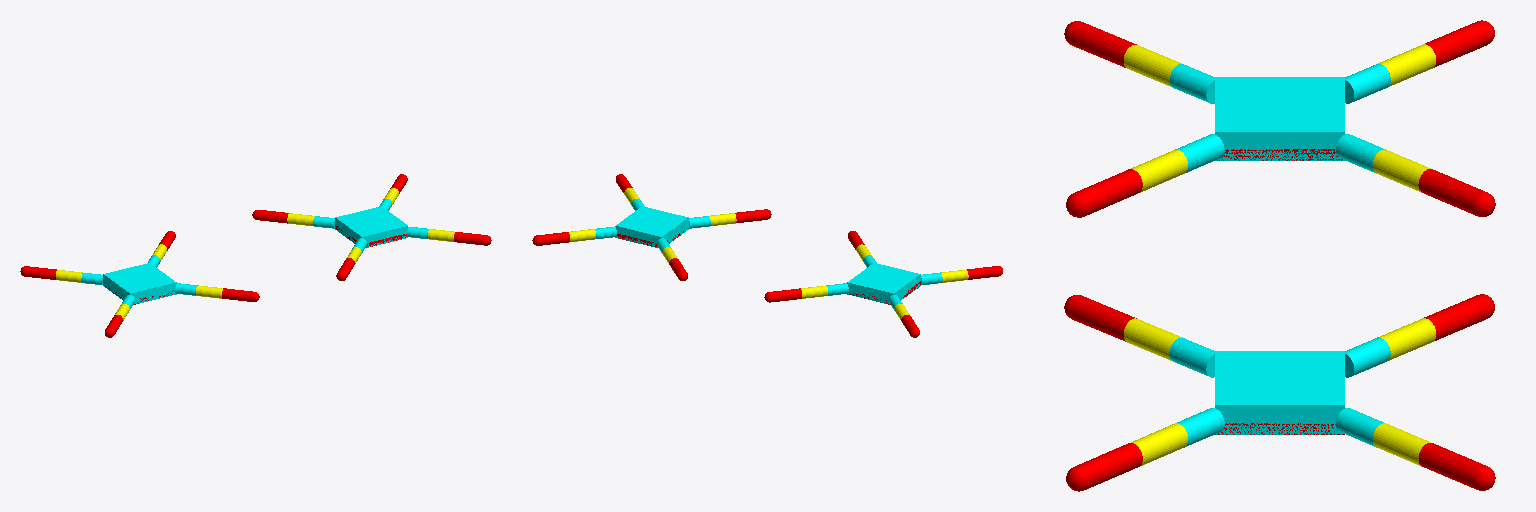
The robot description file, URDF, robot "spider":
<?xml version="1.0" ?>
<!-- =================================================================================== -->
<!-- |    This document was autogenerated by xacro from spider3.xacro                  | -->
<!-- |    EDITING THIS FILE BY HAND IS NOT RECOMMENDED                                 | -->
<!-- =================================================================================== -->
<robot name="spider" xmlns:xacro="http://www.ros.org/wiki/xacro">
  <link name="env+a+'_1'">
    <visual>
      <geometry>
        <cylinder length="0.4" radius="0.1"/>
      </geometry>
      <origin rpy="0 1.57285 0" xyz="0.2 0 0"/>
      <material name="cyan">
        <color rgba="0 1 1 1"/>
      </material>
    </visual>
  </link>
  <link name="env+a+'_2'">
    <visual>
      <geometry>
        <cylinder length="0.5" radius="0.1"/>
      </geometry>
      <origin rpy="0 1.57285 0" xyz="0.25 0 0"/>
      <material name="yellow">
        <color rgba="1 1 0 1"/>
      </material>
    </visual>
    <collision>
      <geometry>
        <cylinder length="0.5" radius="0.1"/>
      </geometry>
      <origin rpy="0 1.57285 0" xyz="0.25 0 0"/>
      <material name="yellow">
        <color rgba="1 1 0 1"/>
      </material>
    </collision>
  </link>
  <link name="env+a+'_3'">
    <visual>
      <geometry>
        <cylinder length="0.6" radius="0.1"/>
      </geometry>
      <origin rpy="0 1.57285 0" xyz="0.3 0 0"/>
      <material name="red">
        <color rgba="1 0 0 1"/>
      </material>
    </visual>
    <collision>
      <geometry>
        <cylinder length="0.6" radius="0.1"/>
      </geometry>
      <origin rpy="0 1.57285 0" xyz="0.3 0 0"/>
      <material name="red">
        <color rgba="1 0 0 1"/>
      </material>
    </collision>
  </link>
  <link name="env+a+'_4'">
    <visual>
      <geometry>
        <sphere radius="0.1"/>
      </geometry>
      <origin rpy="0 1.57285 0" xyz="0.3 0 0"/>
      <material name="red">
        <color rgba="1 0 0 1"/>
      </material>
    </visual>
    <collision>
      <geometry>
        <sphere radius="0.1"/>
      </geometry>
      <origin rpy="0 1.57285 0" xyz="0.3 0 0"/>
      <material name="red">
        <color rgba="1 0 0 1"/>
      </material>
    </collision>
  </link>
  <joint name="env+a+'_1_2'" type="revolute">
    <parent link="env+a+'_1'"/>
    <child link="env+a+'_2'"/>
    <origin rpy="0 0 0" xyz="0.4 0 0"/>
    <axis xyz="0 1 0"/>
    <limit effort="300" lower="-1.57" upper="1.57" velocity="0.1"/>
  </joint>
  <joint name="env+a+'_2_3'" type="revolute">
    <parent link="env+a+'_2'"/>
    <child link="env+a+'_3'"/>
    <origin rpy="0 0 0" xyz="0.5 0 0"/>
    <axis xyz="0 1 0"/>
    <limit effort="300" lower="-1.57" upper="1.57" velocity="0.1"/>
  </joint>
  <joint name="env+a+'_3_4'" type="fixed">
    <parent link="env+a+'_3'"/>
    <child link="env+a+'_4'"/>
    <origin xyz="0.3 0 0"/>
  </joint>
  <link name="env+b+'_1'">
    <visual>
      <geometry>
        <cylinder length="0.4" radius="0.1"/>
      </geometry>
      <origin rpy="0 1.57285 0" xyz="0.2 0 0"/>
      <material name="cyan">
        <color rgba="0 1 1 1"/>
      </material>
    </visual>
  </link>
  <link name="env+b+'_2'">
    <visual>
      <geometry>
        <cylinder length="0.5" radius="0.1"/>
      </geometry>
      <origin rpy="0 1.57285 0" xyz="0.25 0 0"/>
      <material name="yellow">
        <color rgba="1 1 0 1"/>
      </material>
    </visual>
    <collision>
      <geometry>
        <cylinder length="0.5" radius="0.1"/>
      </geometry>
      <origin rpy="0 1.57285 0" xyz="0.25 0 0"/>
      <material name="yellow">
        <color rgba="1 1 0 1"/>
      </material>
    </collision>
  </link>
  <link name="env+b+'_3'">
    <visual>
      <geometry>
        <cylinder length="0.6" radius="0.1"/>
      </geometry>
      <origin rpy="0 1.57285 0" xyz="0.3 0 0"/>
      <material name="red">
        <color rgba="1 0 0 1"/>
      </material>
    </visual>
    <collision>
      <geometry>
        <cylinder length="0.6" radius="0.1"/>
      </geometry>
      <origin rpy="0 1.57285 0" xyz="0.3 0 0"/>
      <material name="red">
        <color rgba="1 0 0 1"/>
      </material>
    </collision>
  </link>
  <link name="env+b+'_4'">
    <visual>
      <geometry>
        <sphere radius="0.1"/>
      </geometry>
      <origin rpy="0 1.57285 0" xyz="0.3 0 0"/>
      <material name="red">
        <color rgba="1 0 0 1"/>
      </material>
    </visual>
    <collision>
      <geometry>
        <sphere radius="0.1"/>
      </geometry>
      <origin rpy="0 1.57285 0" xyz="0.3 0 0"/>
      <material name="red">
        <color rgba="1 0 0 1"/>
      </material>
    </collision>
  </link>
  <joint name="env+b+'_1_2'" type="revolute">
    <parent link="env+b+'_1'"/>
    <child link="env+b+'_2'"/>
    <origin rpy="0 0 0" xyz="0.4 0 0"/>
    <axis xyz="0 1 0"/>
    <limit effort="300" lower="-1.57" upper="1.57" velocity="0.1"/>
  </joint>
  <joint name="env+b+'_2_3'" type="revolute">
    <parent link="env+b+'_2'"/>
    <child link="env+b+'_3'"/>
    <origin rpy="0 0 0" xyz="0.5 0 0"/>
    <axis xyz="0 1 0"/>
    <limit effort="300" lower="-1.57" upper="1.57" velocity="0.1"/>
  </joint>
  <joint name="env+b+'_3_4'" type="fixed">
    <parent link="env+b+'_3'"/>
    <child link="env+b+'_4'"/>
    <origin xyz="0.3 0 0"/>
  </joint>
  <link name="env+c+'_1'">
    <visual>
      <geometry>
        <cylinder length="0.4" radius="0.1"/>
      </geometry>
      <origin rpy="0 1.57285 0" xyz="0.2 0 0"/>
      <material name="cyan">
        <color rgba="0 1 1 1"/>
      </material>
    </visual>
  </link>
  <link name="env+c+'_2'">
    <visual>
      <geometry>
        <cylinder length="0.5" radius="0.1"/>
      </geometry>
      <origin rpy="0 1.57285 0" xyz="0.25 0 0"/>
      <material name="yellow">
        <color rgba="1 1 0 1"/>
      </material>
    </visual>
    <collision>
      <geometry>
        <cylinder length="0.5" radius="0.1"/>
      </geometry>
      <origin rpy="0 1.57285 0" xyz="0.25 0 0"/>
      <material name="yellow">
        <color rgba="1 1 0 1"/>
      </material>
    </collision>
  </link>
  <link name="env+c+'_3'">
    <visual>
      <geometry>
        <cylinder length="0.6" radius="0.1"/>
      </geometry>
      <origin rpy="0 1.57285 0" xyz="0.3 0 0"/>
      <material name="red">
        <color rgba="1 0 0 1"/>
      </material>
    </visual>
    <collision>
      <geometry>
        <cylinder length="0.6" radius="0.1"/>
      </geometry>
      <origin rpy="0 1.57285 0" xyz="0.3 0 0"/>
      <material name="red">
        <color rgba="1 0 0 1"/>
      </material>
    </collision>
  </link>
  <link name="env+c+'_4'">
    <visual>
      <geometry>
        <sphere radius="0.1"/>
      </geometry>
      <origin rpy="0 1.57285 0" xyz="0.3 0 0"/>
      <material name="red">
        <color rgba="1 0 0 1"/>
      </material>
    </visual>
    <collision>
      <geometry>
        <sphere radius="0.1"/>
      </geometry>
      <origin rpy="0 1.57285 0" xyz="0.3 0 0"/>
      <material name="red">
        <color rgba="1 0 0 1"/>
      </material>
    </collision>
  </link>
  <joint name="env+c+'_1_2'" type="revolute">
    <parent link="env+c+'_1'"/>
    <child link="env+c+'_2'"/>
    <origin rpy="0 0 0" xyz="0.4 0 0"/>
    <axis xyz="0 1 0"/>
    <limit effort="300" lower="-1.57" upper="1.57" velocity="0.1"/>
  </joint>
  <joint name="env+c+'_2_3'" type="revolute">
    <parent link="env+c+'_2'"/>
    <child link="env+c+'_3'"/>
    <origin rpy="0 0 0" xyz="0.5 0 0"/>
    <axis xyz="0 1 0"/>
    <limit effort="300" lower="-1.57" upper="1.57" velocity="0.1"/>
  </joint>
  <joint name="env+c+'_3_4'" type="fixed">
    <parent link="env+c+'_3'"/>
    <child link="env+c+'_4'"/>
    <origin xyz="0.3 0 0"/>
  </joint>
  <link name="env+d+'_1'">
    <visual>
      <geometry>
        <cylinder length="0.4" radius="0.1"/>
      </geometry>
      <origin rpy="0 1.57285 0" xyz="0.2 0 0"/>
      <material name="cyan">
        <color rgba="0 1 1 1"/>
      </material>
    </visual>
  </link>
  <link name="env+d+'_2'">
    <visual>
      <geometry>
        <cylinder length="0.5" radius="0.1"/>
      </geometry>
      <origin rpy="0 1.57285 0" xyz="0.25 0 0"/>
      <material name="yellow">
        <color rgba="1 1 0 1"/>
      </material>
    </visual>
    <collision>
      <geometry>
        <cylinder length="0.5" radius="0.1"/>
      </geometry>
      <origin rpy="0 1.57285 0" xyz="0.25 0 0"/>
      <material name="yellow">
        <color rgba="1 1 0 1"/>
      </material>
    </collision>
  </link>
  <link name="env+d+'_3'">
    <visual>
      <geometry>
        <cylinder length="0.6" radius="0.1"/>
      </geometry>
      <origin rpy="0 1.57285 0" xyz="0.3 0 0"/>
      <material name="red">
        <color rgba="1 0 0 1"/>
      </material>
    </visual>
    <collision>
      <geometry>
        <cylinder length="0.6" radius="0.1"/>
      </geometry>
      <origin rpy="0 1.57285 0" xyz="0.3 0 0"/>
      <material name="red">
        <color rgba="1 0 0 1"/>
      </material>
    </collision>
  </link>
  <link name="env+d+'_4'">
    <visual>
      <geometry>
        <sphere radius="0.1"/>
      </geometry>
      <origin rpy="0 1.57285 0" xyz="0.3 0 0"/>
      <material name="red">
        <color rgba="1 0 0 1"/>
      </material>
    </visual>
    <collision>
      <geometry>
        <sphere radius="0.1"/>
      </geometry>
      <origin rpy="0 1.57285 0" xyz="0.3 0 0"/>
      <material name="red">
        <color rgba="1 0 0 1"/>
      </material>
    </collision>
  </link>
  <joint name="env+d+'_1_2'" type="revolute">
    <parent link="env+d+'_1'"/>
    <child link="env+d+'_2'"/>
    <origin rpy="0 0 0" xyz="0.4 0 0"/>
    <axis xyz="0 1 0"/>
    <limit effort="300" lower="-1.57" upper="1.57" velocity="0.1"/>
  </joint>
  <joint name="env+d+'_2_3'" type="revolute">
    <parent link="env+d+'_2'"/>
    <child link="env+d+'_3'"/>
    <origin rpy="0 0 0" xyz="0.5 0 0"/>
    <axis xyz="0 1 0"/>
    <limit effort="300" lower="-1.57" upper="1.57" velocity="0.1"/>
  </joint>
  <joint name="env+d+'_3_4'" type="fixed">
    <parent link="env+d+'_3'"/>
    <child link="env+d+'_4'"/>
    <origin xyz="0.3 0 0"/>
  </joint>
  <link name="env+base_link">
    <visual>
      <geometry>
        <box size="1 1 0.25"/>
      </geometry>
      <origin rpy="0 0 0" xyz="0 0 0"/>
      <material name="cyan">
        <color rgba="0 1 1 1"/>
      </material>
    </visual>
  </link>
  <link name="env+base_link2">
    <visual>
      <geometry>
        <box size="1 1 0.1"/>
      </geometry>
      <origin rpy="0 0 0" xyz="0 0 0"/>
      <material name="cyan">
        <color rgba="1 0 0 1"/>
      </material>
    </visual>
    <collision>
      <geometry>
        <box size="1 1 0.1"/>
      </geometry>
      <origin rpy="0 0 0" xyz="0 0 0"/>
      <material name="cyan">
        <color rgba="1 0 0 1"/>
      </material>
    </collision>
  </link>
  <joint name="env+base" type="fixed">
    <parent link="env+base_link"/>
    <child link="env+base_link2"/>
    <origin xyz="0 0 -0.075"/>
  </joint>
  <joint name="env+joint_0_a" type="revolute">
    <parent link="env+base_link"/>
    <child link="env+a+'_1'"/>
    <origin rpy="0 0 0.786425" xyz="0.5 0.5 0"/>
    <axis xyz="0 0 1"/>
    <limit effort="300" lower="-1.57" upper="1.57" velocity="0.1"/>
  </joint>
  <joint name="env+joint_0_b" type="revolute">
    <parent link="env+base_link"/>
    <child link="env+b+'_1'"/>
    <origin rpy="0 0 2.359275" xyz="-0.5 0.5 0"/>
    <axis xyz="0 0 1"/>
    <limit effort="300" lower="-1.57" upper="1.57" velocity="0.1"/>
  </joint>
  <joint name="env+joint_0_c" type="revolute">
    <parent link="env+base_link"/>
    <child link="env+c+'_1'"/>
    <origin rpy="0 0 3.932125" xyz="-0.5 -0.5 0"/>
    <axis xyz="0 0 1"/>
    <limit effort="300" lower="-1.57" upper="1.57" velocity="0.1"/>
  </joint>
  <joint name="env+joint_0_d" type="revolute">
    <parent link="env+base_link"/>
    <child link="env+d+'_1'"/>
    <origin rpy="0 0 5.504975" xyz="0.5 -0.5 0"/>
    <axis xyz="0 0 1"/>
    <limit effort="300" lower="-1.57" upper="1.57" velocity="0.1"/>
  </joint>
  <link name="sim+a+'_1'">
    <visual>
      <geometry>
        <cylinder length="0.4" radius="0.1"/>
      </geometry>
      <origin rpy="0 1.57285 0" xyz="0.2 0 0"/>
      <material name="cyan">
        <color rgba="0 1 1 1"/>
      </material>
    </visual>
  </link>
  <link name="sim+a+'_2'">
    <visual>
      <geometry>
        <cylinder length="0.5" radius="0.1"/>
      </geometry>
      <origin rpy="0 1.57285 0" xyz="0.25 0 0"/>
      <material name="yellow">
        <color rgba="1 1 0 1"/>
      </material>
    </visual>
    <collision>
      <geometry>
        <cylinder length="0.5" radius="0.1"/>
      </geometry>
      <origin rpy="0 1.57285 0" xyz="0.25 0 0"/>
      <material name="yellow">
        <color rgba="1 1 0 1"/>
      </material>
    </collision>
  </link>
  <link name="sim+a+'_3'">
    <visual>
      <geometry>
        <cylinder length="0.6" radius="0.1"/>
      </geometry>
      <origin rpy="0 1.57285 0" xyz="0.3 0 0"/>
      <material name="red">
        <color rgba="1 0 0 1"/>
      </material>
    </visual>
    <collision>
      <geometry>
        <cylinder length="0.6" radius="0.1"/>
      </geometry>
      <origin rpy="0 1.57285 0" xyz="0.3 0 0"/>
      <material name="red">
        <color rgba="1 0 0 1"/>
      </material>
    </collision>
  </link>
  <link name="sim+a+'_4'">
    <visual>
      <geometry>
        <sphere radius="0.1"/>
      </geometry>
      <origin rpy="0 1.57285 0" xyz="0.3 0 0"/>
      <material name="red">
        <color rgba="1 0 0 1"/>
      </material>
    </visual>
    <collision>
      <geometry>
        <sphere radius="0.1"/>
      </geometry>
      <origin rpy="0 1.57285 0" xyz="0.3 0 0"/>
      <material name="red">
        <color rgba="1 0 0 1"/>
      </material>
    </collision>
  </link>
  <joint name="sim+a+'_1_2'" type="revolute">
    <parent link="sim+a+'_1'"/>
    <child link="sim+a+'_2'"/>
    <origin rpy="0 0 0" xyz="0.4 0 0"/>
    <axis xyz="0 1 0"/>
    <limit effort="300" lower="-1.57" upper="1.57" velocity="0.1"/>
  </joint>
  <joint name="sim+a+'_2_3'" type="revolute">
    <parent link="sim+a+'_2'"/>
    <child link="sim+a+'_3'"/>
    <origin rpy="0 0 0" xyz="0.5 0 0"/>
    <axis xyz="0 1 0"/>
    <limit effort="300" lower="-1.57" upper="1.57" velocity="0.1"/>
  </joint>
  <joint name="sim+a+'_3_4'" type="fixed">
    <parent link="sim+a+'_3'"/>
    <child link="sim+a+'_4'"/>
    <origin xyz="0.3 0 0"/>
  </joint>
  <link name="sim+b+'_1'">
    <visual>
      <geometry>
        <cylinder length="0.4" radius="0.1"/>
      </geometry>
      <origin rpy="0 1.57285 0" xyz="0.2 0 0"/>
      <material name="cyan">
        <color rgba="0 1 1 1"/>
      </material>
    </visual>
  </link>
  <link name="sim+b+'_2'">
    <visual>
      <geometry>
        <cylinder length="0.5" radius="0.1"/>
      </geometry>
      <origin rpy="0 1.57285 0" xyz="0.25 0 0"/>
      <material name="yellow">
        <color rgba="1 1 0 1"/>
      </material>
    </visual>
    <collision>
      <geometry>
        <cylinder length="0.5" radius="0.1"/>
      </geometry>
      <origin rpy="0 1.57285 0" xyz="0.25 0 0"/>
      <material name="yellow">
        <color rgba="1 1 0 1"/>
      </material>
    </collision>
  </link>
  <link name="sim+b+'_3'">
    <visual>
      <geometry>
        <cylinder length="0.6" radius="0.1"/>
      </geometry>
      <origin rpy="0 1.57285 0" xyz="0.3 0 0"/>
      <material name="red">
        <color rgba="1 0 0 1"/>
      </material>
    </visual>
    <collision>
      <geometry>
        <cylinder length="0.6" radius="0.1"/>
      </geometry>
      <origin rpy="0 1.57285 0" xyz="0.3 0 0"/>
      <material name="red">
        <color rgba="1 0 0 1"/>
      </material>
    </collision>
  </link>
  <link name="sim+b+'_4'">
    <visual>
      <geometry>
        <sphere radius="0.1"/>
      </geometry>
      <origin rpy="0 1.57285 0" xyz="0.3 0 0"/>
      <material name="red">
        <color rgba="1 0 0 1"/>
      </material>
    </visual>
    <collision>
      <geometry>
        <sphere radius="0.1"/>
      </geometry>
      <origin rpy="0 1.57285 0" xyz="0.3 0 0"/>
      <material name="red">
        <color rgba="1 0 0 1"/>
      </material>
    </collision>
  </link>
  <joint name="sim+b+'_1_2'" type="revolute">
    <parent link="sim+b+'_1'"/>
    <child link="sim+b+'_2'"/>
    <origin rpy="0 0 0" xyz="0.4 0 0"/>
    <axis xyz="0 1 0"/>
    <limit effort="300" lower="-1.57" upper="1.57" velocity="0.1"/>
  </joint>
  <joint name="sim+b+'_2_3'" type="revolute">
    <parent link="sim+b+'_2'"/>
    <child link="sim+b+'_3'"/>
    <origin rpy="0 0 0" xyz="0.5 0 0"/>
    <axis xyz="0 1 0"/>
    <limit effort="300" lower="-1.57" upper="1.57" velocity="0.1"/>
  </joint>
  <joint name="sim+b+'_3_4'" type="fixed">
    <parent link="sim+b+'_3'"/>
    <child link="sim+b+'_4'"/>
    <origin xyz="0.3 0 0"/>
  </joint>
  <link name="sim+c+'_1'">
    <visual>
      <geometry>
        <cylinder length="0.4" radius="0.1"/>
      </geometry>
      <origin rpy="0 1.57285 0" xyz="0.2 0 0"/>
      <material name="cyan">
        <color rgba="0 1 1 1"/>
      </material>
    </visual>
  </link>
  <link name="sim+c+'_2'">
    <visual>
      <geometry>
        <cylinder length="0.5" radius="0.1"/>
      </geometry>
      <origin rpy="0 1.57285 0" xyz="0.25 0 0"/>
      <material name="yellow">
        <color rgba="1 1 0 1"/>
      </material>
    </visual>
    <collision>
      <geometry>
        <cylinder length="0.5" radius="0.1"/>
      </geometry>
      <origin rpy="0 1.57285 0" xyz="0.25 0 0"/>
      <material name="yellow">
        <color rgba="1 1 0 1"/>
      </material>
    </collision>
  </link>
  <link name="sim+c+'_3'">
    <visual>
      <geometry>
        <cylinder length="0.6" radius="0.1"/>
      </geometry>
      <origin rpy="0 1.57285 0" xyz="0.3 0 0"/>
      <material name="red">
        <color rgba="1 0 0 1"/>
      </material>
    </visual>
    <collision>
      <geometry>
        <cylinder length="0.6" radius="0.1"/>
      </geometry>
      <origin rpy="0 1.57285 0" xyz="0.3 0 0"/>
      <material name="red">
        <color rgba="1 0 0 1"/>
      </material>
    </collision>
  </link>
  <link name="sim+c+'_4'">
    <visual>
      <geometry>
        <sphere radius="0.1"/>
      </geometry>
      <origin rpy="0 1.57285 0" xyz="0.3 0 0"/>
      <material name="red">
        <color rgba="1 0 0 1"/>
      </material>
    </visual>
    <collision>
      <geometry>
        <sphere radius="0.1"/>
      </geometry>
      <origin rpy="0 1.57285 0" xyz="0.3 0 0"/>
      <material name="red">
        <color rgba="1 0 0 1"/>
      </material>
    </collision>
  </link>
  <joint name="sim+c+'_1_2'" type="revolute">
    <parent link="sim+c+'_1'"/>
    <child link="sim+c+'_2'"/>
    <origin rpy="0 0 0" xyz="0.4 0 0"/>
    <axis xyz="0 1 0"/>
    <limit effort="300" lower="-1.57" upper="1.57" velocity="0.1"/>
  </joint>
  <joint name="sim+c+'_2_3'" type="revolute">
    <parent link="sim+c+'_2'"/>
    <child link="sim+c+'_3'"/>
    <origin rpy="0 0 0" xyz="0.5 0 0"/>
    <axis xyz="0 1 0"/>
    <limit effort="300" lower="-1.57" upper="1.57" velocity="0.1"/>
  </joint>
  <joint name="sim+c+'_3_4'" type="fixed">
    <parent link="sim+c+'_3'"/>
    <child link="sim+c+'_4'"/>
    <origin xyz="0.3 0 0"/>
  </joint>
  <link name="sim+d+'_1'">
    <visual>
      <geometry>
        <cylinder length="0.4" radius="0.1"/>
      </geometry>
      <origin rpy="0 1.57285 0" xyz="0.2 0 0"/>
      <material name="cyan">
        <color rgba="0 1 1 1"/>
      </material>
    </visual>
  </link>
  <link name="sim+d+'_2'">
    <visual>
      <geometry>
        <cylinder length="0.5" radius="0.1"/>
      </geometry>
      <origin rpy="0 1.57285 0" xyz="0.25 0 0"/>
      <material name="yellow">
        <color rgba="1 1 0 1"/>
      </material>
    </visual>
    <collision>
      <geometry>
        <cylinder length="0.5" radius="0.1"/>
      </geometry>
      <origin rpy="0 1.57285 0" xyz="0.25 0 0"/>
      <material name="yellow">
        <color rgba="1 1 0 1"/>
      </material>
    </collision>
  </link>
  <link name="sim+d+'_3'">
    <visual>
      <geometry>
        <cylinder length="0.6" radius="0.1"/>
      </geometry>
      <origin rpy="0 1.57285 0" xyz="0.3 0 0"/>
      <material name="red">
        <color rgba="1 0 0 1"/>
      </material>
    </visual>
    <collision>
      <geometry>
        <cylinder length="0.6" radius="0.1"/>
      </geometry>
      <origin rpy="0 1.57285 0" xyz="0.3 0 0"/>
      <material name="red">
        <color rgba="1 0 0 1"/>
      </material>
    </collision>
  </link>
  <link name="sim+d+'_4'">
    <visual>
      <geometry>
        <sphere radius="0.1"/>
      </geometry>
      <origin rpy="0 1.57285 0" xyz="0.3 0 0"/>
      <material name="red">
        <color rgba="1 0 0 1"/>
      </material>
    </visual>
    <collision>
      <geometry>
        <sphere radius="0.1"/>
      </geometry>
      <origin rpy="0 1.57285 0" xyz="0.3 0 0"/>
      <material name="red">
        <color rgba="1 0 0 1"/>
      </material>
    </collision>
  </link>
  <joint name="sim+d+'_1_2'" type="revolute">
    <parent link="sim+d+'_1'"/>
    <child link="sim+d+'_2'"/>
    <origin rpy="0 0 0" xyz="0.4 0 0"/>
    <axis xyz="0 1 0"/>
    <limit effort="300" lower="-1.57" upper="1.57" velocity="0.1"/>
  </joint>
  <joint name="sim+d+'_2_3'" type="revolute">
    <parent link="sim+d+'_2'"/>
    <child link="sim+d+'_3'"/>
    <origin rpy="0 0 0" xyz="0.5 0 0"/>
    <axis xyz="0 1 0"/>
    <limit effort="300" lower="-1.57" upper="1.57" velocity="0.1"/>
  </joint>
  <joint name="sim+d+'_3_4'" type="fixed">
    <parent link="sim+d+'_3'"/>
    <child link="sim+d+'_4'"/>
    <origin xyz="0.3 0 0"/>
  </joint>
  <link name="sim+base_link">
    <visual>
      <geometry>
        <box size="1 1 0.25"/>
      </geometry>
      <origin rpy="0 0 0" xyz="0 0 0"/>
      <material name="cyan">
        <color rgba="0 1 1 1"/>
      </material>
    </visual>
  </link>
  <link name="sim+base_link2">
    <visual>
      <geometry>
        <box size="1 1 0.1"/>
      </geometry>
      <origin rpy="0 0 0" xyz="0 0 0"/>
      <material name="cyan">
        <color rgba="1 0 0 1"/>
      </material>
    </visual>
    <collision>
      <geometry>
        <box size="1 1 0.1"/>
      </geometry>
      <origin rpy="0 0 0" xyz="0 0 0"/>
      <material name="cyan">
        <color rgba="1 0 0 1"/>
      </material>
    </collision>
  </link>
  <joint name="sim+base" type="fixed">
    <parent link="sim+base_link"/>
    <child link="sim+base_link2"/>
    <origin xyz="0 0 -0.075"/>
  </joint>
  <joint name="sim+joint_0_a" type="revolute">
    <parent link="sim+base_link"/>
    <child link="sim+a+'_1'"/>
    <origin rpy="0 0 0.786425" xyz="0.5 0.5 0"/>
    <axis xyz="0 0 1"/>
    <limit effort="300" lower="-1.57" upper="1.57" velocity="0.1"/>
  </joint>
  <joint name="sim+joint_0_b" type="revolute">
    <parent link="sim+base_link"/>
    <child link="sim+b+'_1'"/>
    <origin rpy="0 0 2.359275" xyz="-0.5 0.5 0"/>
    <axis xyz="0 0 1"/>
    <limit effort="300" lower="-1.57" upper="1.57" velocity="0.1"/>
  </joint>
  <joint name="sim+joint_0_c" type="revolute">
    <parent link="sim+base_link"/>
    <child link="sim+c+'_1'"/>
    <origin rpy="0 0 3.932125" xyz="-0.5 -0.5 0"/>
    <axis xyz="0 0 1"/>
    <limit effort="300" lower="-1.57" upper="1.57" velocity="0.1"/>
  </joint>
  <joint name="sim+joint_0_d" type="revolute">
    <parent link="sim+base_link"/>
    <child link="sim+d+'_1'"/>
    <origin rpy="0 0 5.504975" xyz="0.5 -0.5 0"/>
    <axis xyz="0 0 1"/>
    <limit effort="300" lower="-1.57" upper="1.57" velocity="0.1"/>
  </joint>
  <joint name="base" type="fixed">
    <parent link="env+base_link"/>
    <child link="sim+base_link"/>
    <origin xyz="5 0 0"/>
  </joint>
</robot>

--- What the picture shows (computed from the rendered views, not written in the file) ---
The picture shows the robot from 3 angles, left to right: view 1: azimuth 30°, elevation 25°; view 2: azimuth 150°, elevation 25°; view 3: azimuth 270°, elevation 25°; orthographic projection.
Model spider with 36 links and 35 joints (24 revolute, 11 fixed), rooted at env+base_link, posed every joint at zero.
Links seen in each view (by area): view 1: env+base_link, sim+base_link; view 2: env+base_link, sim+base_link; view 3: sim+base_link, env+base_link, env+c+'_3', sim+c+'_3', sim+a+'_3', env+a+'_3', sim+d+'_3', env+d+'_3', sim+b+'_3', env+b+'_3', env+c+'_2', sim+c+'_2' (+15 smaller).
Link boxes in pixels (x1,y1,x2,y2): env+base_link: [103, 263, 176, 303]; sim+base_link: [335, 206, 407, 247]; env+base_link: [847, 263, 920, 304]; sim+base_link: [615, 206, 688, 247]; sim+base_link: [1215, 351, 1344, 434]; env+base_link: [1215, 77, 1344, 160]; env+c+'_3': [1068, 22, 1136, 67]; sim+c+'_3': [1068, 296, 1136, 341]; sim+a+'_3': [1418, 443, 1485, 489]; env+a+'_3': [1418, 169, 1484, 215]; sim+d+'_3': [1077, 443, 1142, 489]; env+d+'_3': [1075, 169, 1142, 215]; sim+b+'_3': [1424, 295, 1490, 340]; env+b+'_3': [1425, 21, 1490, 67]; env+c+'_2': [1124, 45, 1181, 87]; sim+c+'_2': [1124, 318, 1182, 360].
Bounding box of the posed robot: 8.33 × 3.33 × 0.25 m (x, y, z).
Geometry: primitives only (box / cylinder / sphere), no mesh files.